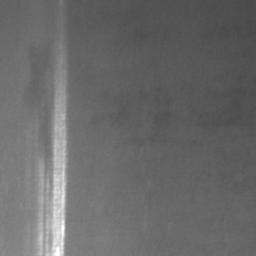Bright scratch: (35, 0, 69, 256)
